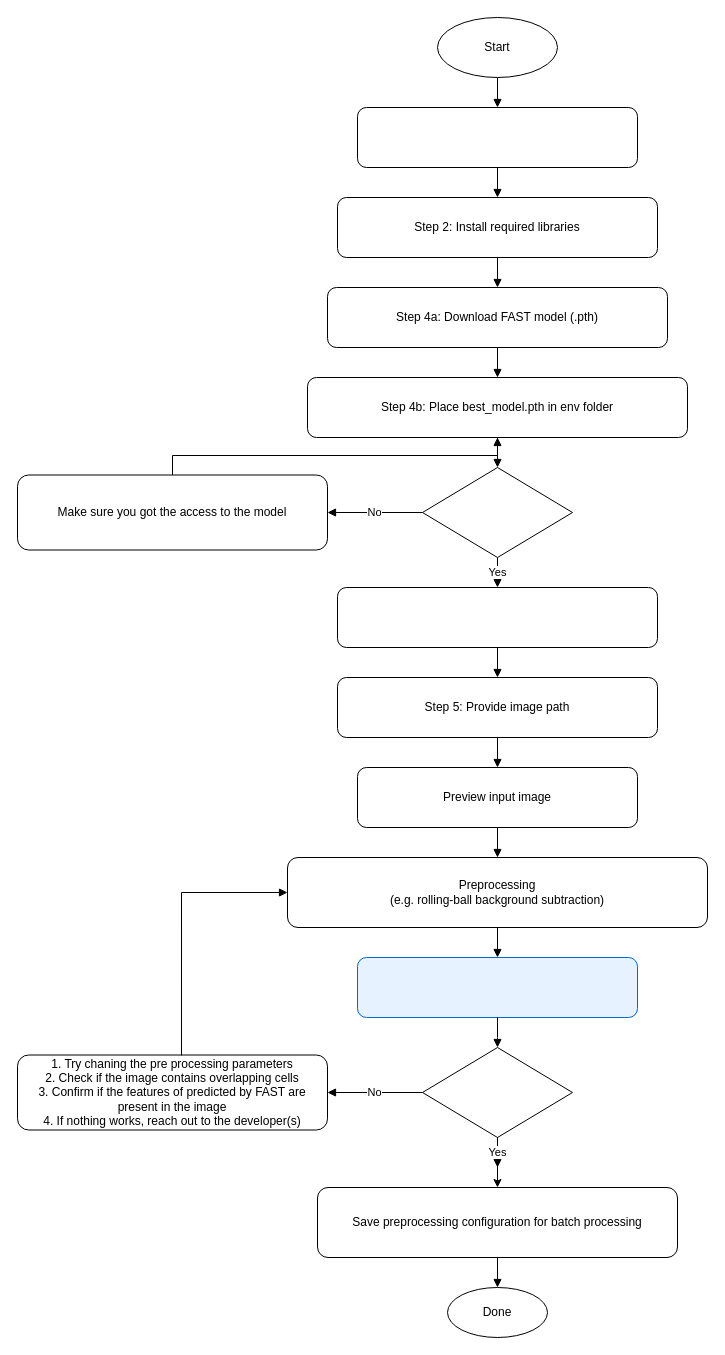
This 725x1355 diagram has some shape labels left out. The shapes that lost their labels are listed below. From the top down, each one's centre as x and y in pixels, then its label:
pixel 497 137: Step 1: Connect to GPU
pixel 497 512: Weights present?
pixel 497 617: Load model + weights
pixel 497 987: Click: Run inference
pixel 497 1092: Is predicted mask accurate?
